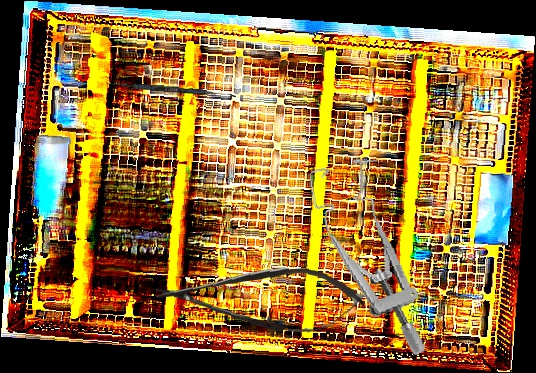Micro Scissor: (154, 260, 366, 338)
Spatula Surgical: (106, 81, 237, 98)
Speculum: (306, 150, 429, 369)
